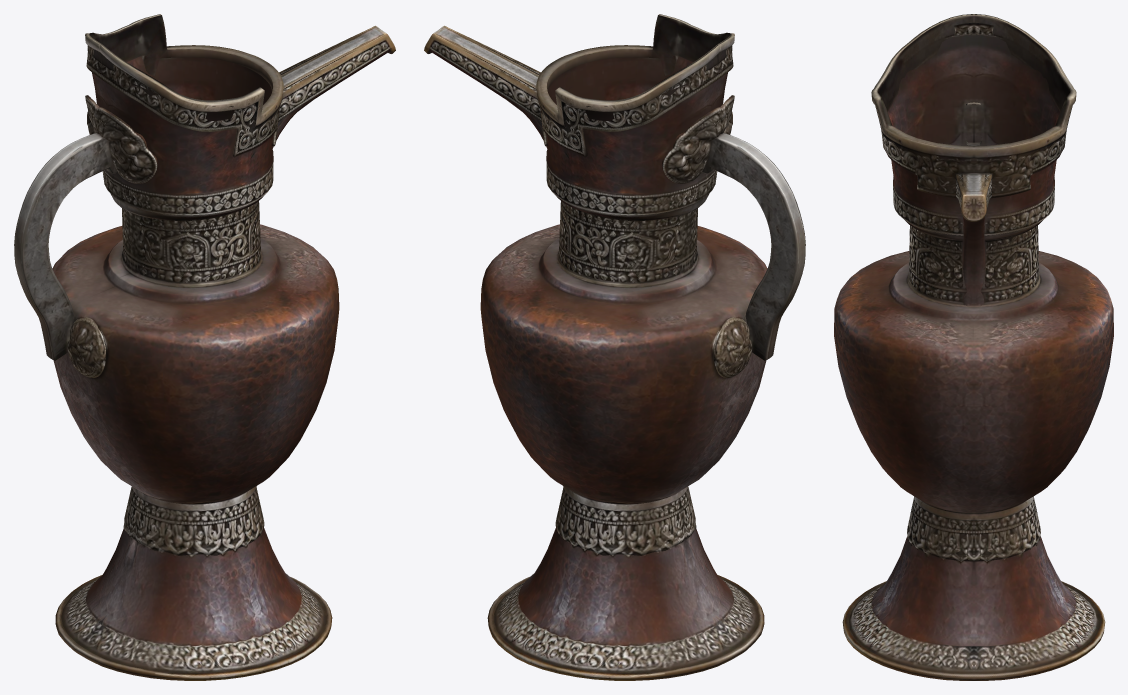
Rendered from vessel-flower.glb.
The picture shows the model from 3 angles, left to right: view 1: azimuth 30°, elevation 25°; view 2: azimuth 150°, elevation 25°; view 3: azimuth 270°, elevation 25°; orthographic projection. The views are drawn at different scales.
Parts seen in each view (by area): view 1: 原型对照_花纹酒壶3d模型; view 2: 原型对照_花纹酒壶3d模型; view 3: 原型对照_花纹酒壶3d模型.
Part boxes in pixels (x1=…): 原型对照_花纹酒壶3d模型: x1=14, y1=14, x2=395, y2=680; 原型对照_花纹酒壶3d模型: x1=424, y1=14, x2=805, y2=680; 原型对照_花纹酒壶3d模型: x1=834, y1=14, x2=1113, y2=680.
Bounding box in the file's own units: 0.1176 × 0.18 × 0.0803.
Materials: 2 (1 with a texture image).
